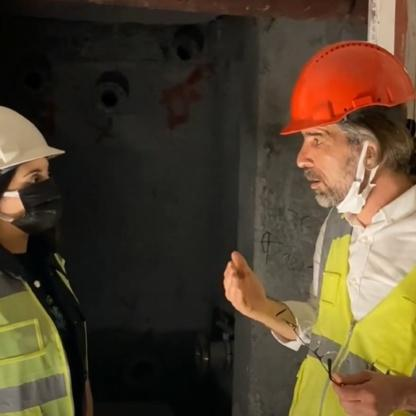helmet: (277, 32, 415, 218), (0, 98, 81, 274)
